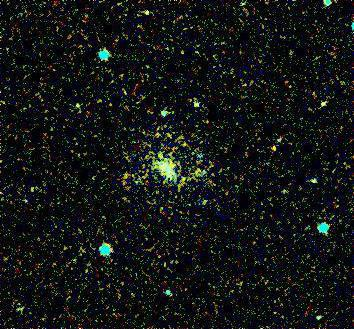star: (259, 133, 289, 163)
